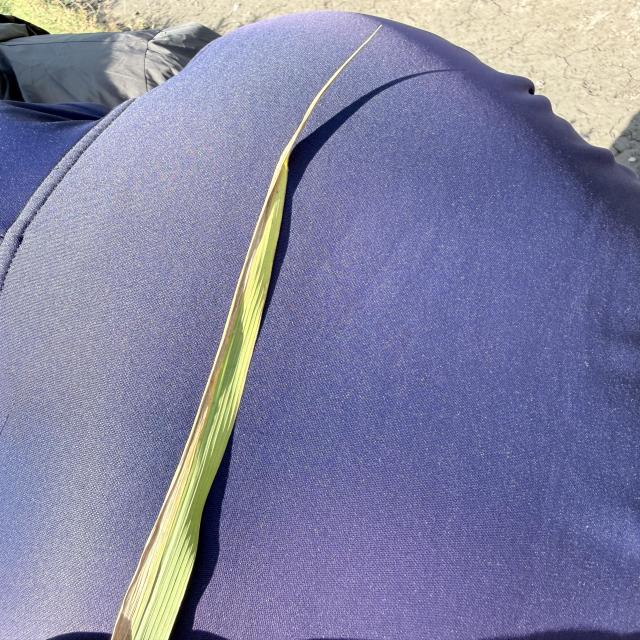Chay bia la: (111, 24, 380, 640)
